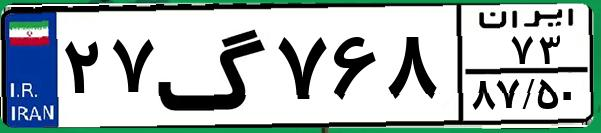0: (560, 70, 590, 125)
2: (57, 26, 110, 100)
3: (537, 27, 568, 80)
5: (535, 70, 560, 125)
6: (330, 28, 385, 110)
7: (270, 28, 330, 110), (110, 28, 156, 98), (508, 27, 537, 80), (495, 70, 520, 125)
8: (385, 28, 445, 110), (470, 70, 495, 125)
گ: (156, 12, 270, 120)
